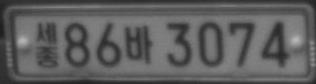0: (197, 21, 224, 67)
3: (166, 22, 193, 67)
4: (261, 20, 290, 67)
6: (95, 21, 122, 67)
7: (229, 21, 255, 68)
8: (64, 22, 90, 67)
바: (124, 25, 154, 63)
세종_V: (34, 21, 59, 68)
